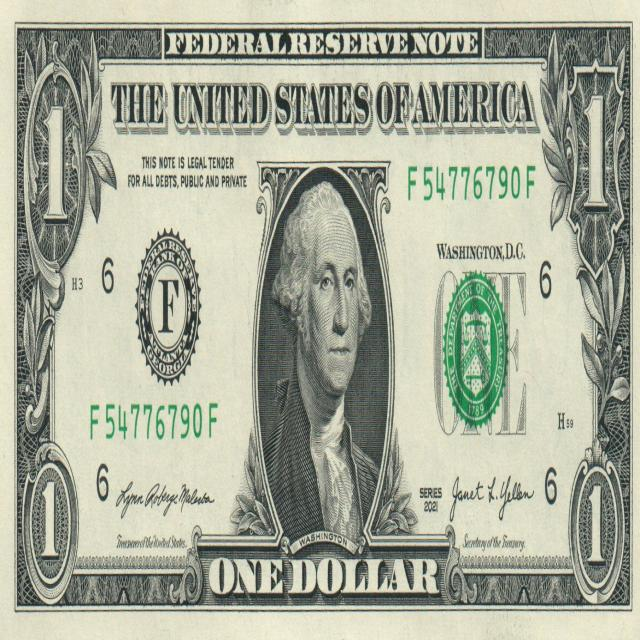SerialNumber: (91, 403, 217, 440), (408, 166, 535, 201)
